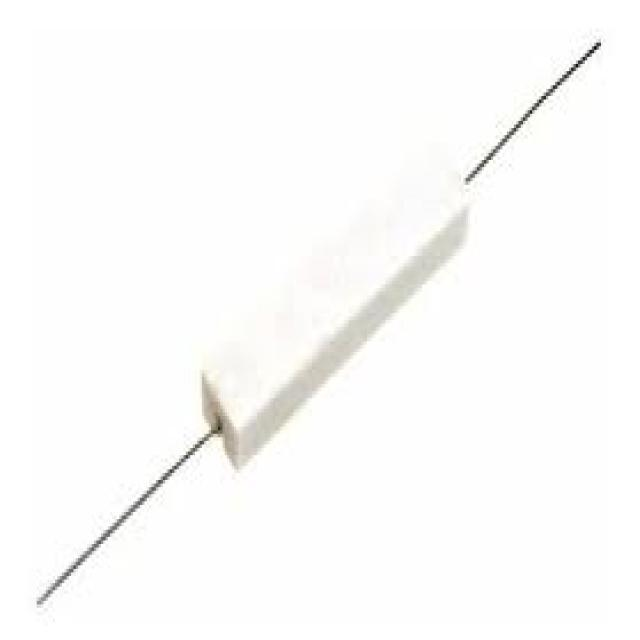Resistor: (195, 147, 471, 465)
